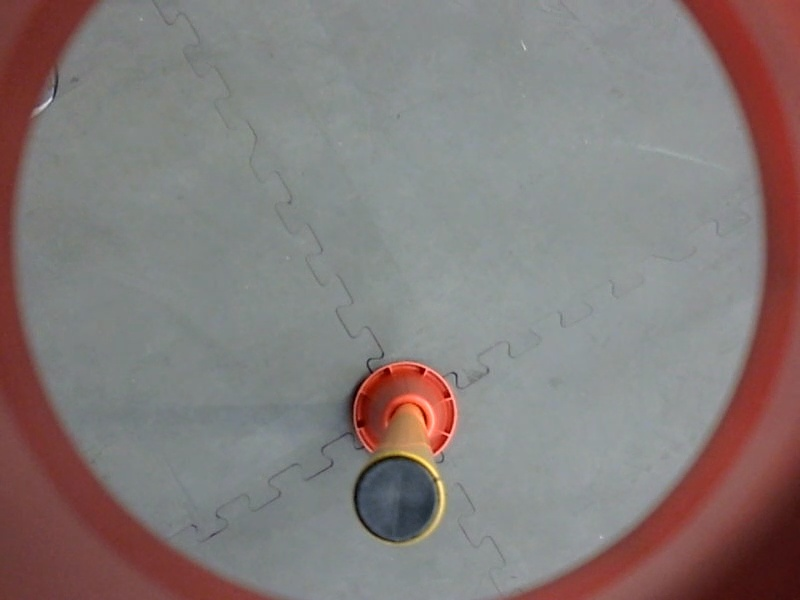tip: (347, 450, 449, 553)
